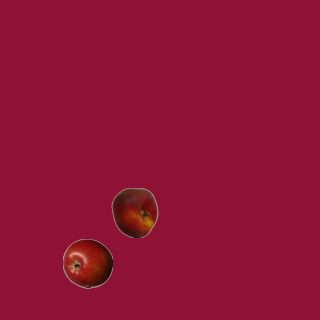Apple Braeburn: (62, 238, 112, 288)
Nectarine Flat: (109, 187, 159, 237)
